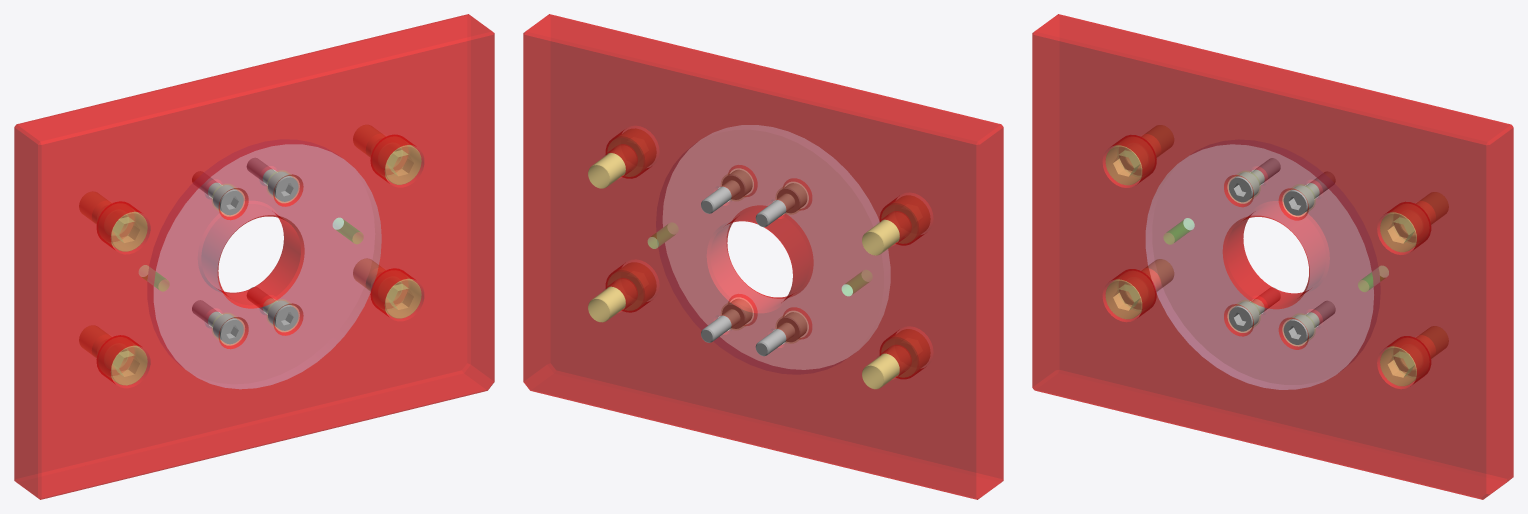
The model's file is t_plate.glb.
The picture shows the model from 3 angles, left to right: view 1: azimuth 30°, elevation 25°; view 2: azimuth 150°, elevation 25°; view 3: azimuth 330°, elevation 25°; orthographic projection.
Parts seen in each view (by area): view 1: Button_t_plate_032, Button_tcp_screw_040 (×4), Button_shcs_057 (×4); view 2: Button_t_plate_032, Button_tcp_screw_040 (×4), Button_shcs_057 (×4); view 3: Button_t_plate_032, Button_tcp_screw_040 (×4), Button_shcs_057 (×4).
Part boxes in pixels (bbox=[...]): Button_t_plate_032: bbox=[14, 14, 494, 499]; Button_tcp_screw_040 (×4): bbox=[79, 125, 421, 385]; Button_shcs_057 (×4): bbox=[192, 158, 298, 344]; Button_t_plate_032: bbox=[523, 14, 1003, 499]; Button_tcp_screw_040 (×4): bbox=[588, 129, 929, 389]; Button_shcs_057 (×4): bbox=[701, 170, 806, 356]; Button_t_plate_032: bbox=[1032, 14, 1513, 499]; Button_tcp_screw_040 (×4): bbox=[1105, 125, 1448, 386]; Button_shcs_057 (×4): bbox=[1229, 158, 1335, 344].
Size of the model in its own units: 0.2 by 0.15 by 0.032.
